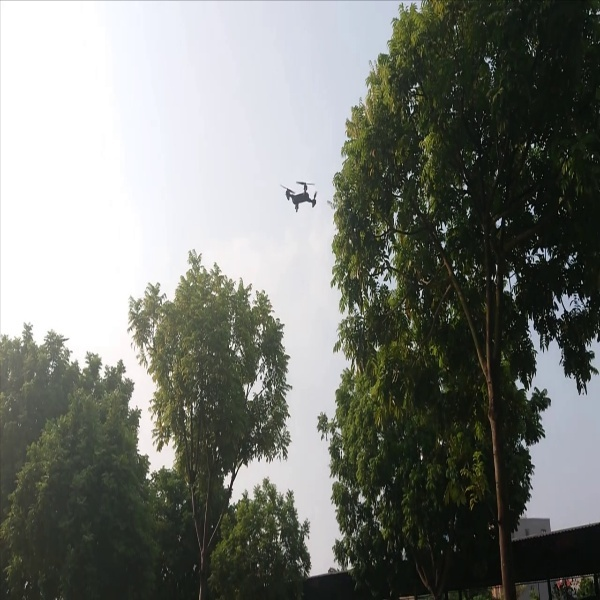drone: (274, 177, 325, 216)
